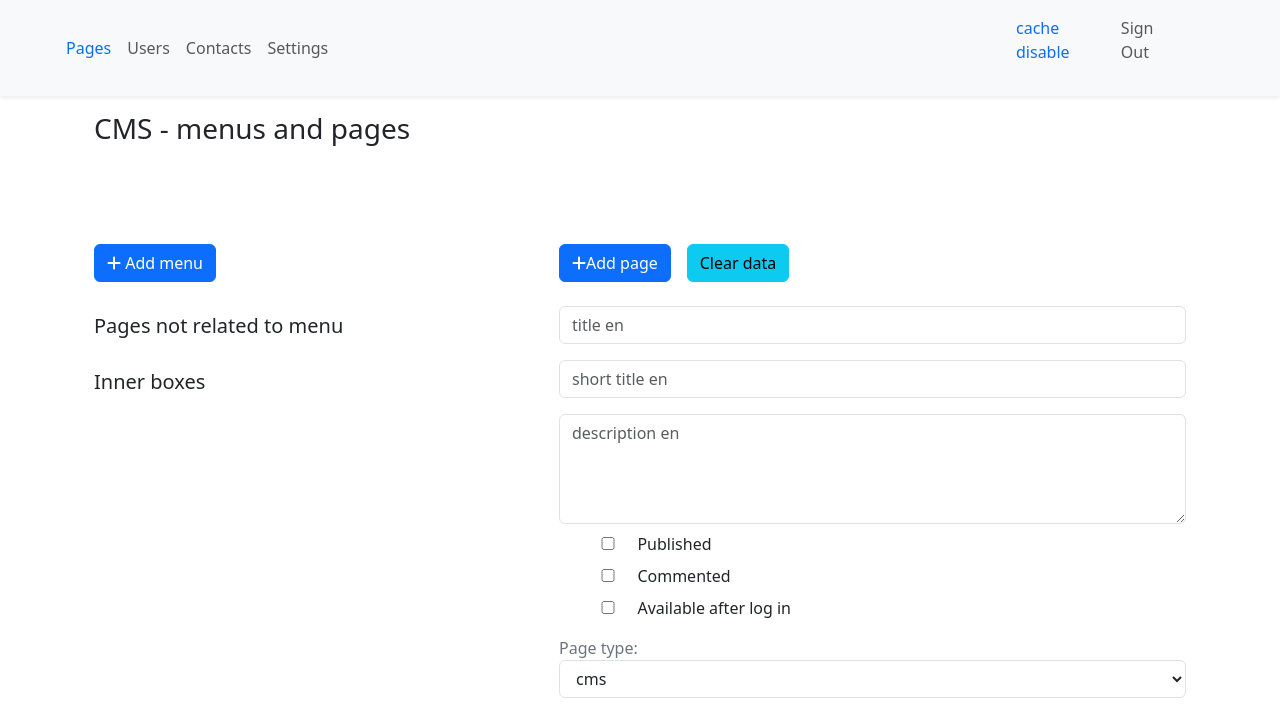
Test: sign out › click sign out link
The width and height of the screenshot is (1280, 715).
Click the list item "Sign Out" at (1137, 40), box [1121,17,1154,63]
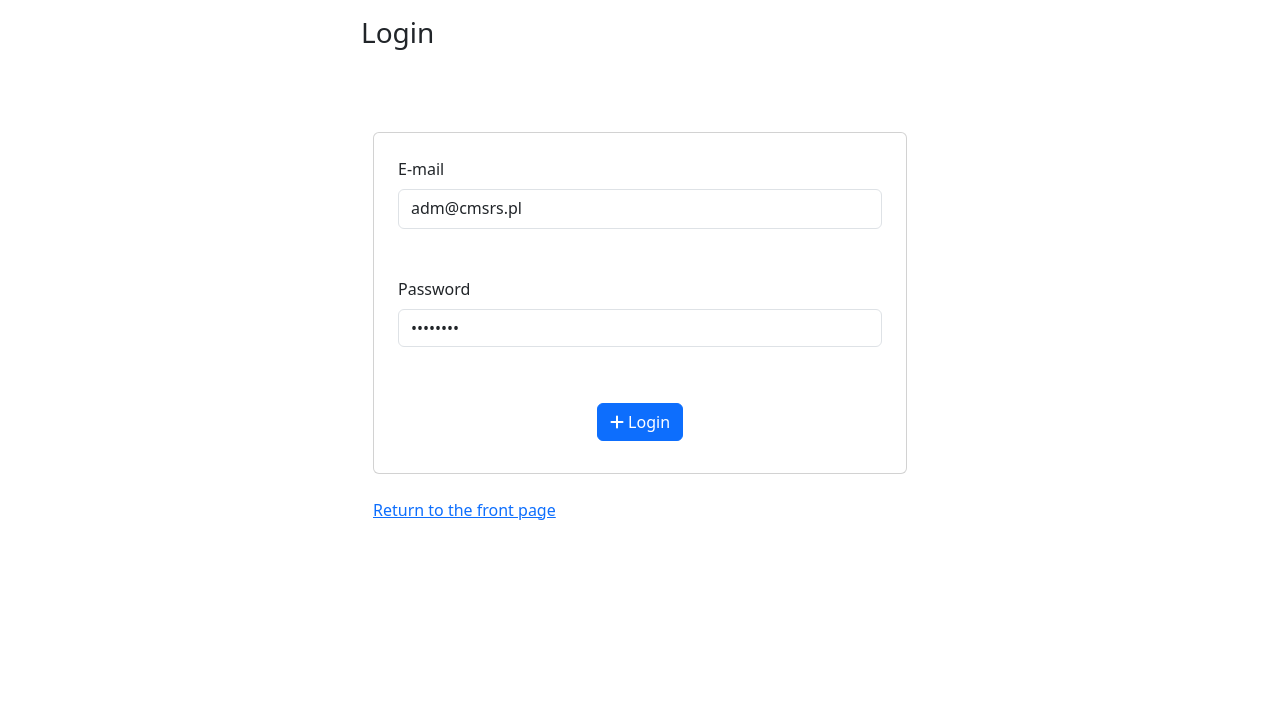
Now the heading "Login" is shown, box [361,13,434,51]
Now the element with test id "login-page" is shown, box [361,16,919,522]
